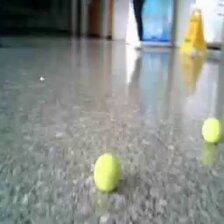tennis: (94, 153, 122, 193), (202, 118, 221, 144)
